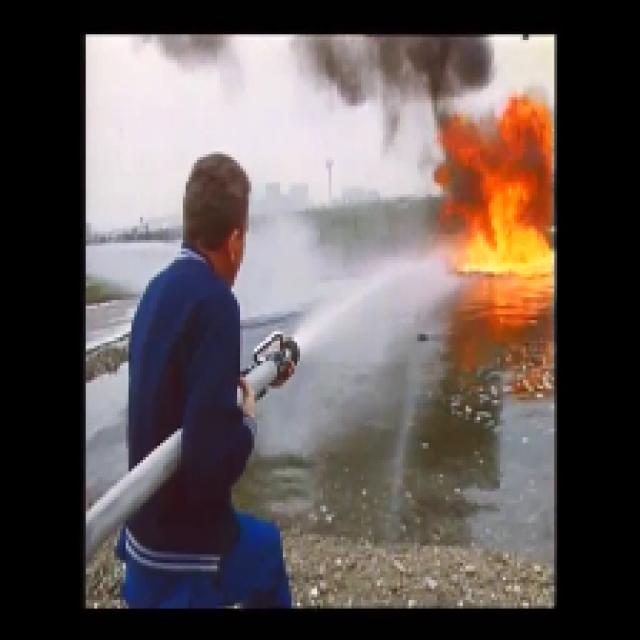fire: (437, 107, 556, 274)
